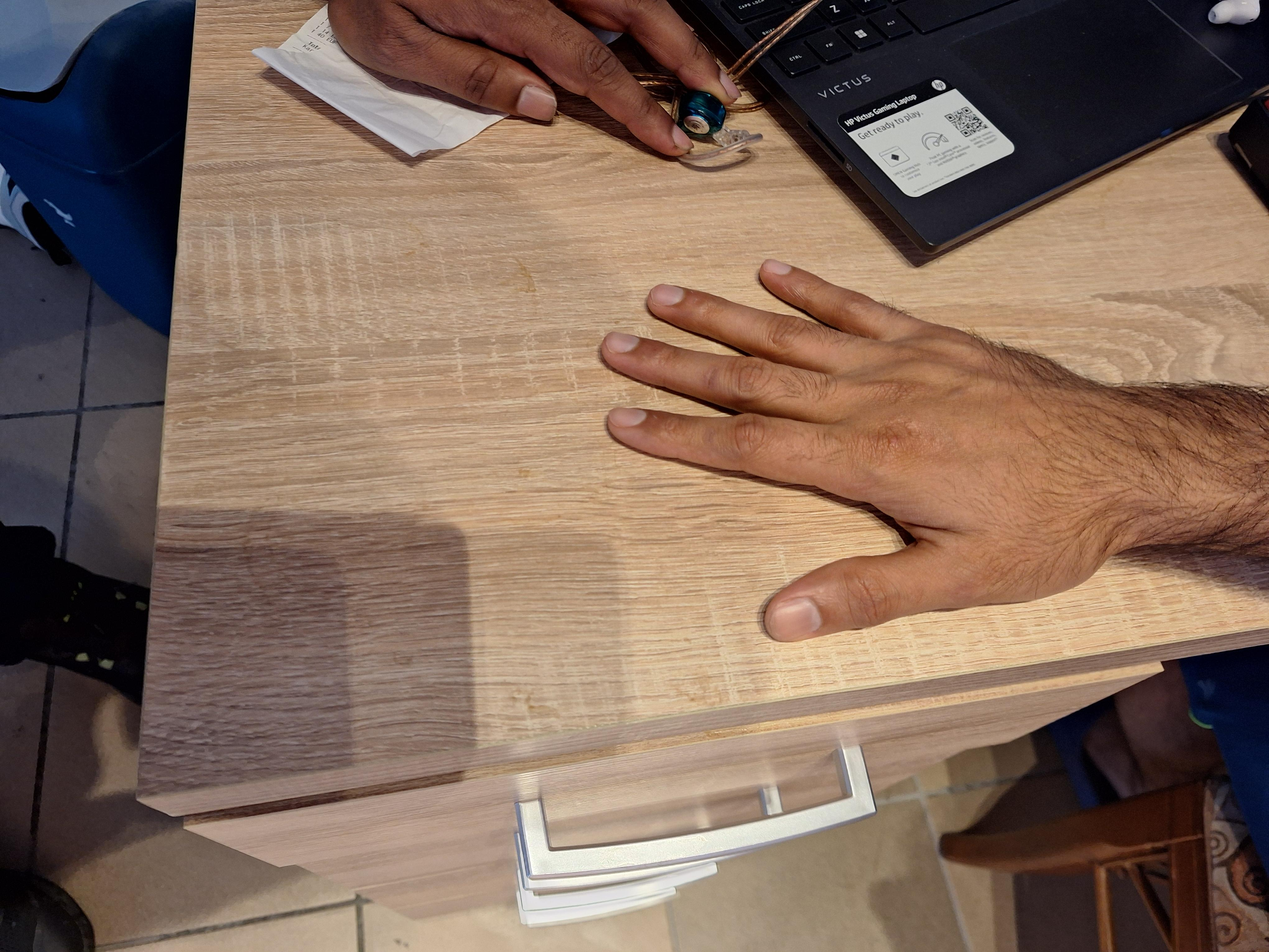Fingernail: (769, 598, 823, 640), (517, 86, 556, 121), (651, 284, 683, 306), (610, 408, 646, 427), (606, 332, 639, 352), (719, 71, 742, 98), (673, 125, 694, 149), (764, 259, 791, 275)
